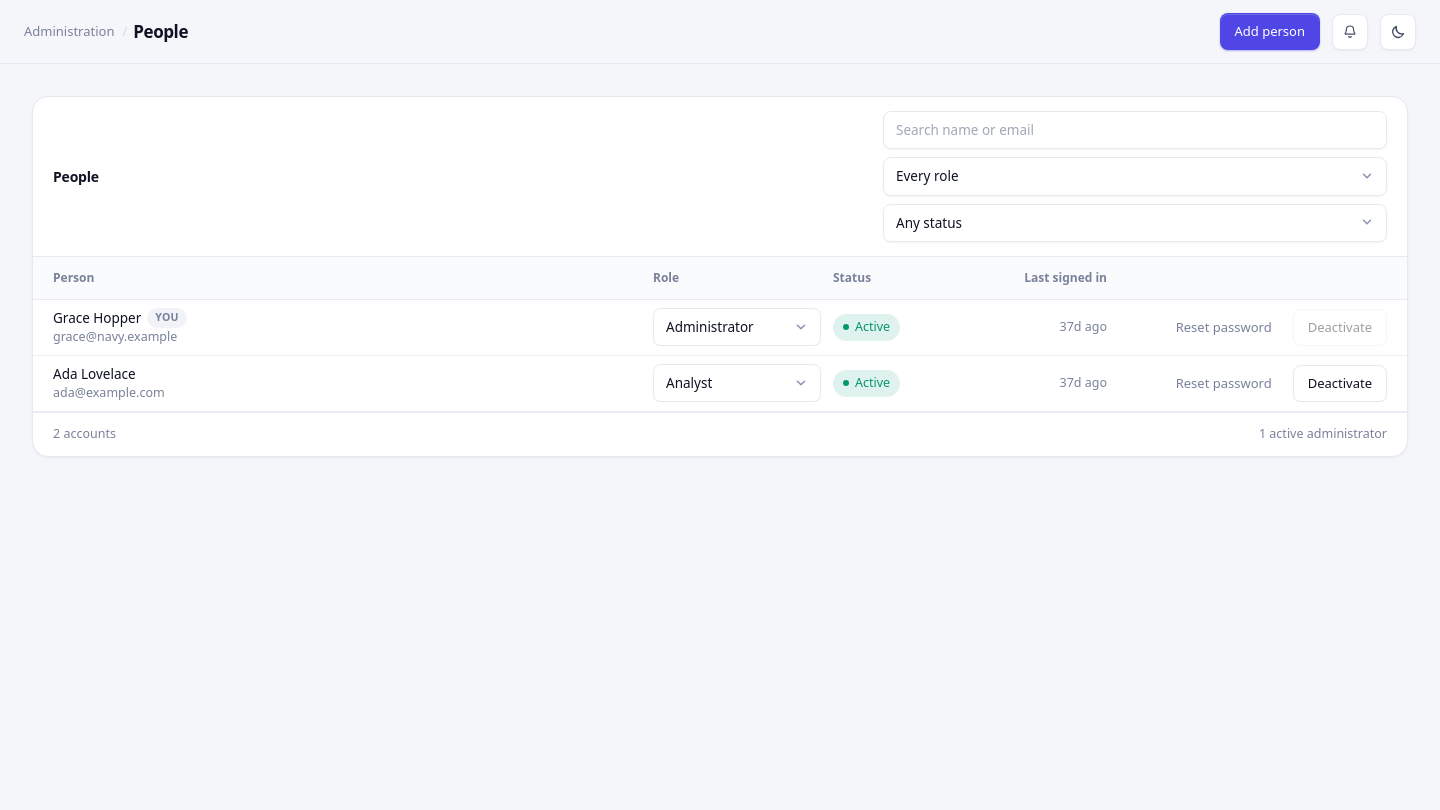
Test: resetting a password › shows the new temporary password in the same one-time dialog
This screenshot has width=1440, height=810.
Expected: the text "Ada Lovelace" is shown, [53,364,136,384]
Click the button "Reset password" in the row of "Ada Lovelace": (1224, 383) [1161,364,1287,402]
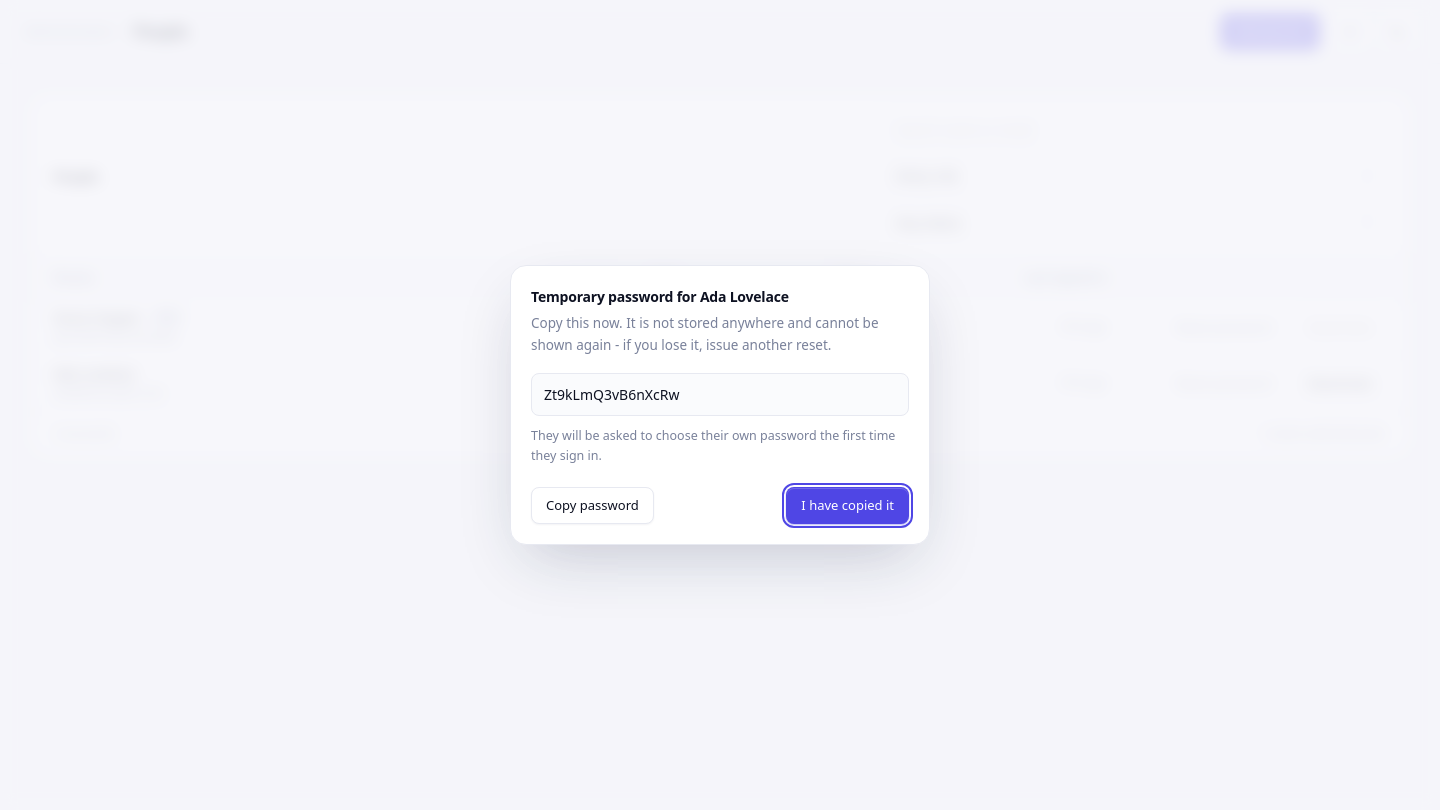
Now the text "Zt9kLmQ3vB6nXcRw" is shown, box [531,373,909,416]
Now the heading "Temporary password for Ada Lovelace" is shown, box [531,287,789,306]
